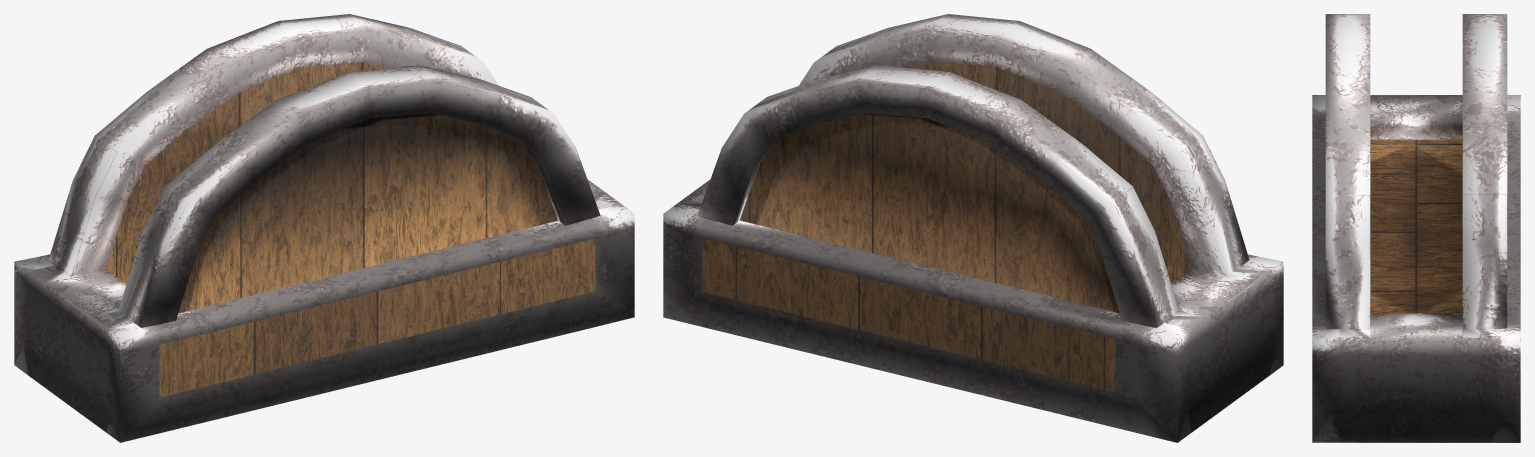
The model's file is leverbase.gltf.
3 views of the same model, side by side, from view 1: azimuth 30°, elevation 25°; view 2: azimuth 150°, elevation 25°; view 3: azimuth 270°, elevation 25° (orthographic).
Visible parts, largest first — view 1: Cube; view 2: Cube; view 3: Cube.
Part boxes in pixels (left/top/right/bottom): Cube: left=14, top=14, right=634, bottom=442; Cube: left=663, top=14, right=1283, bottom=442; Cube: left=1312, top=14, right=1520, bottom=442.
Size of the model in its own units: 2.09 by 1.11 by 0.748.
1 material, 1 textured.
